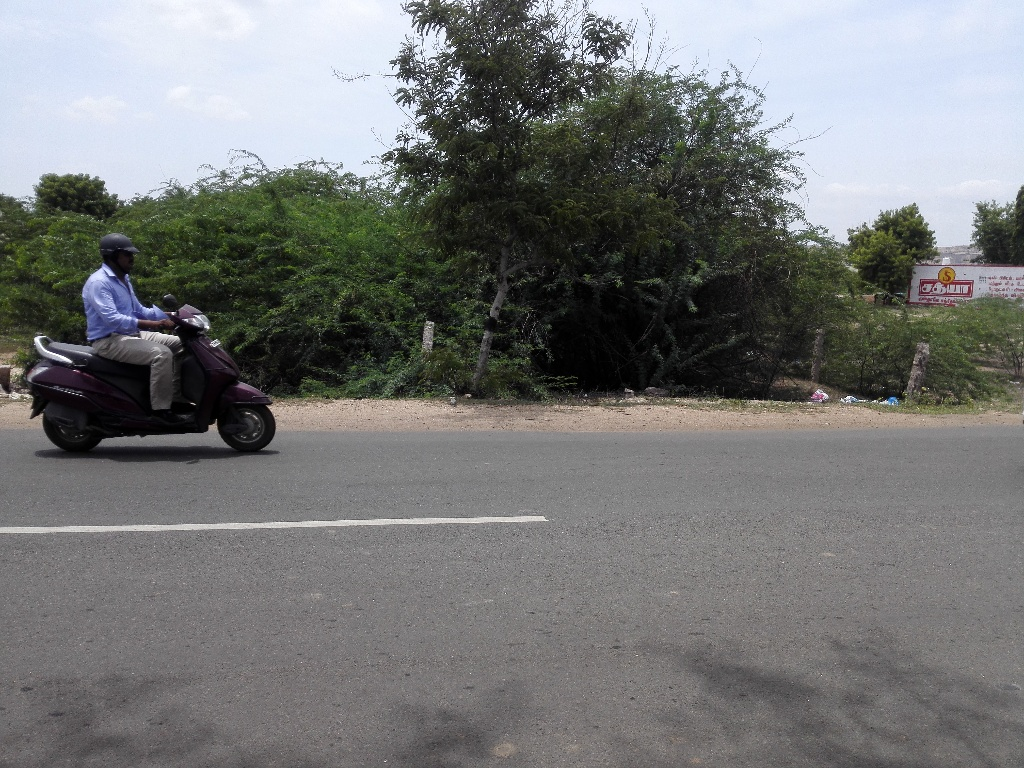biker: (13, 197, 293, 474)
helmet: (91, 225, 143, 286)
